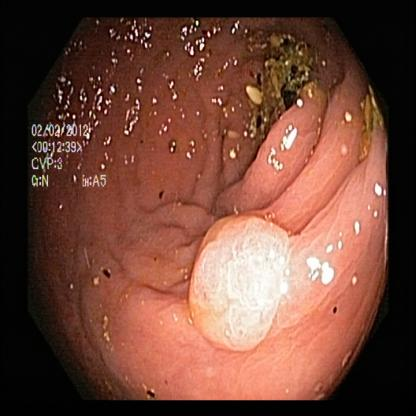Labels: (22, 110, 110, 196)
Polyps: (186, 201, 300, 354)
